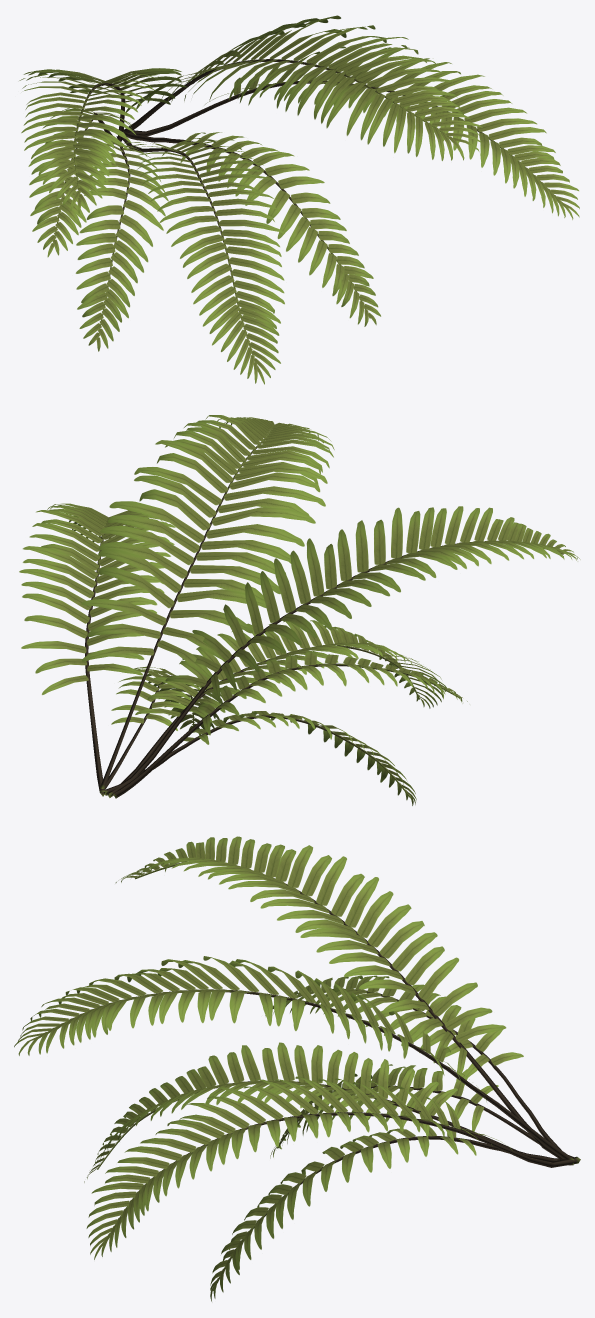
3 views of the same model, one above another, from view 1: azimuth 30°, elevation 25°; view 2: azimuth 150°, elevation 25°; view 3: azimuth 270°, elevation 25° (orthographic). The views are drawn at different scales.
Visible parts, largest first — view 1: MH_Fern01_04.Shape; view 2: MH_Fern01_04.Shape; view 3: MH_Fern01_04.Shape.
Boxes of the visible parts, x1=… form: MH_Fern01_04.Shape: x1=19, y1=15, x2=579, y2=384; MH_Fern01_04.Shape: x1=19, y1=415, x2=580, y2=805; MH_Fern01_04.Shape: x1=14, y1=836, x2=580, y2=1301.
Size of the model in its own units: 0.5109 by 0.2679 by 0.4482.
Materials: 2 (2 with a texture image).
